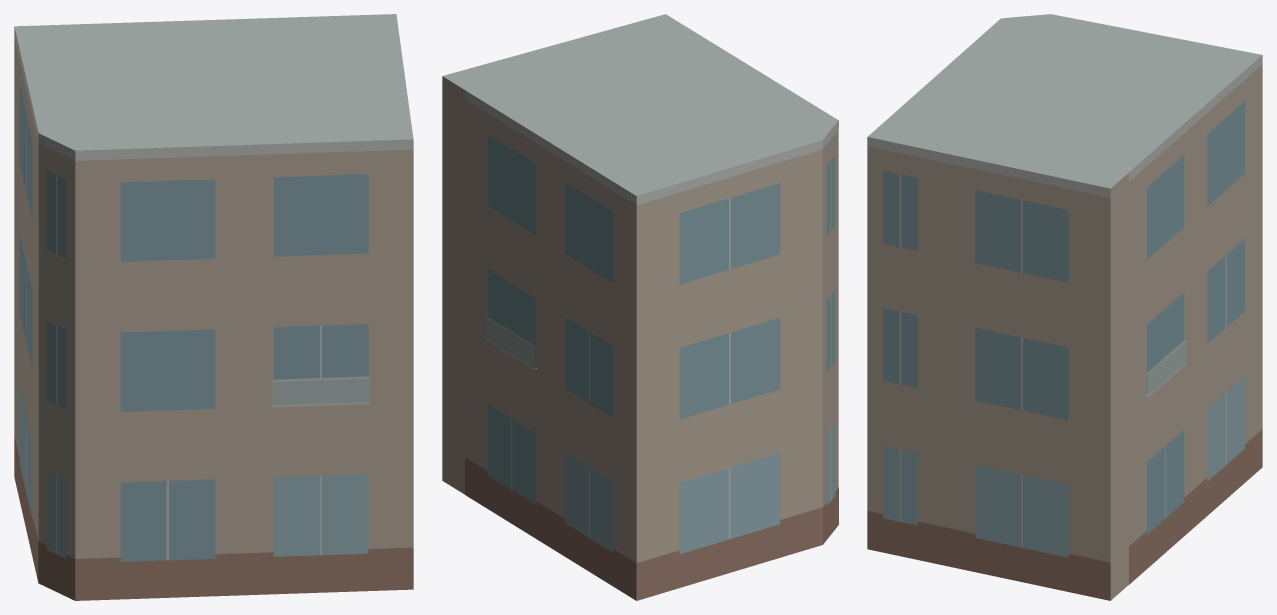
Rendered from survey-upis-32970810.glb.
The picture shows the model from 3 angles, left to right: view 1: azimuth 30°, elevation 25°; view 2: azimuth 150°, elevation 25°; view 3: azimuth 270°, elevation 25°; orthographic projection. The views are drawn at different scales.
Parts seen in each view (by area): view 1: survey-upis-32970810.tmp; view 2: survey-upis-32970810.tmp; view 3: survey-upis-32970810.tmp.
Boxes of the visible parts, bbox=[...] form: survey-upis-32970810.tmp: bbox=[14, 14, 413, 600]; survey-upis-32970810.tmp: bbox=[442, 14, 838, 600]; survey-upis-32970810.tmp: bbox=[867, 14, 1262, 600].
Bounding box in the file's own units: 9.82 × 10.8 × 9.39.
